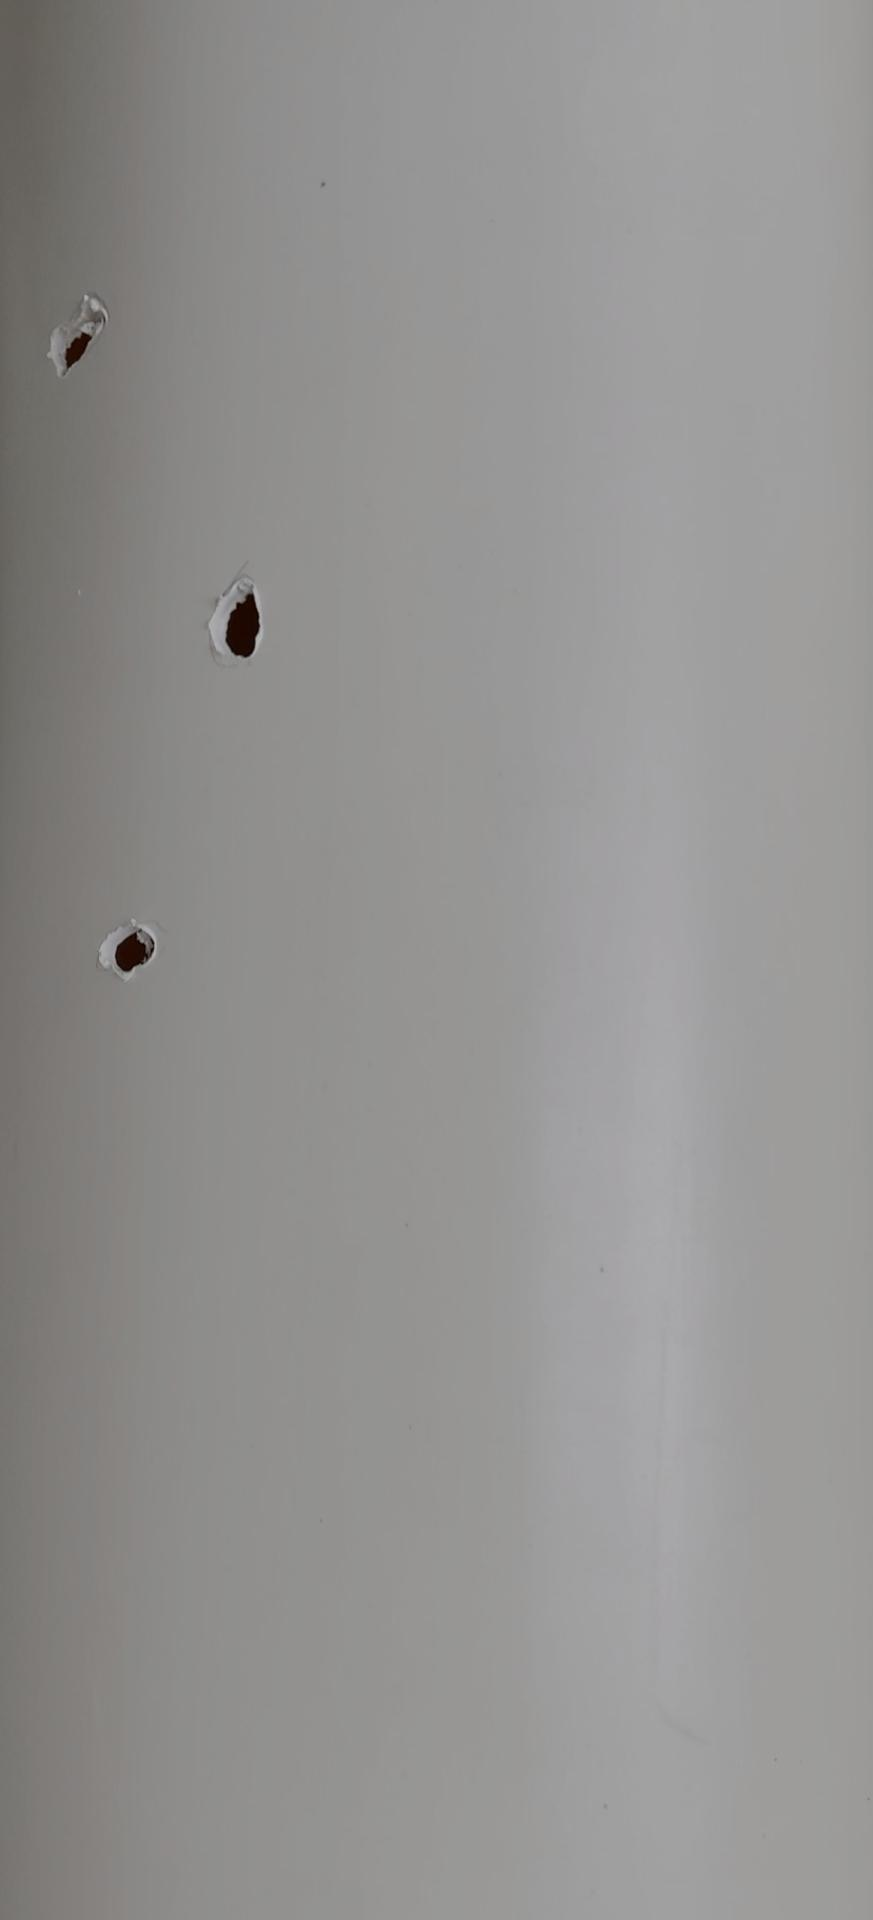kongdong: (29, 301, 140, 386), (209, 564, 271, 680), (88, 901, 165, 983)
